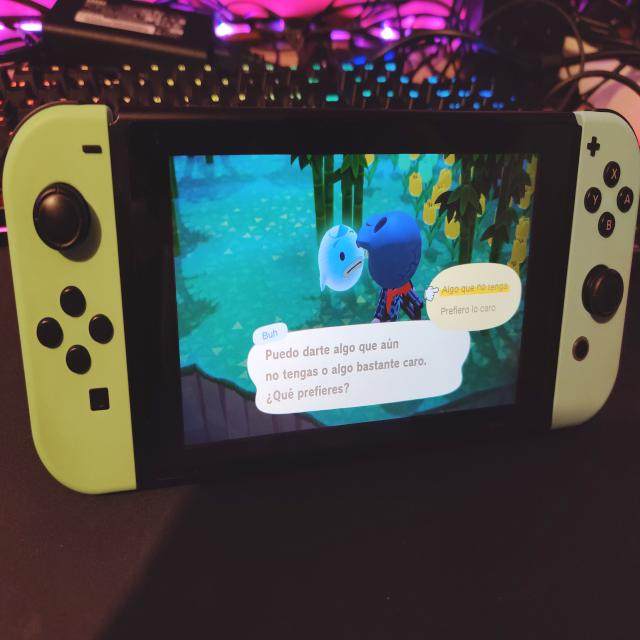text_bubble: (247, 319, 474, 415), (426, 261, 523, 333)
